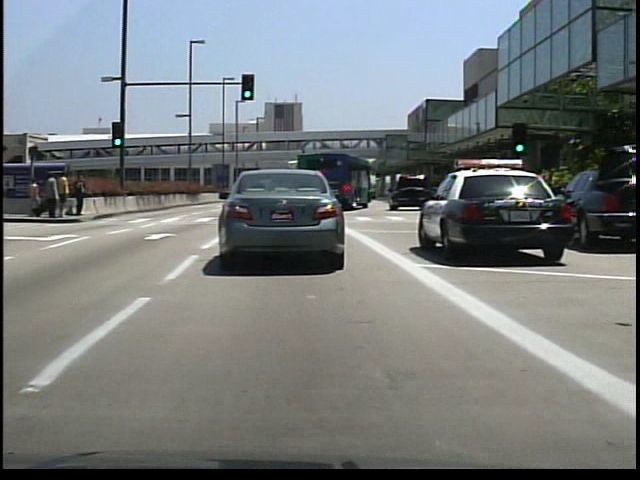person: (69, 171, 87, 219), (24, 174, 43, 216), (44, 171, 60, 220), (57, 171, 72, 220)
